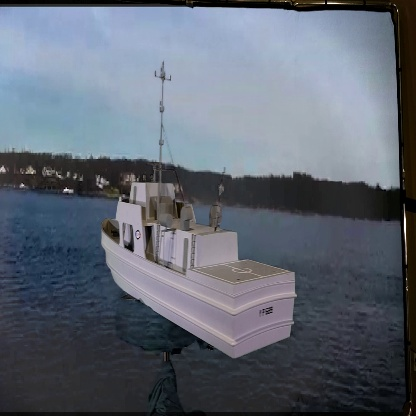YP689: (101, 61, 298, 359)
